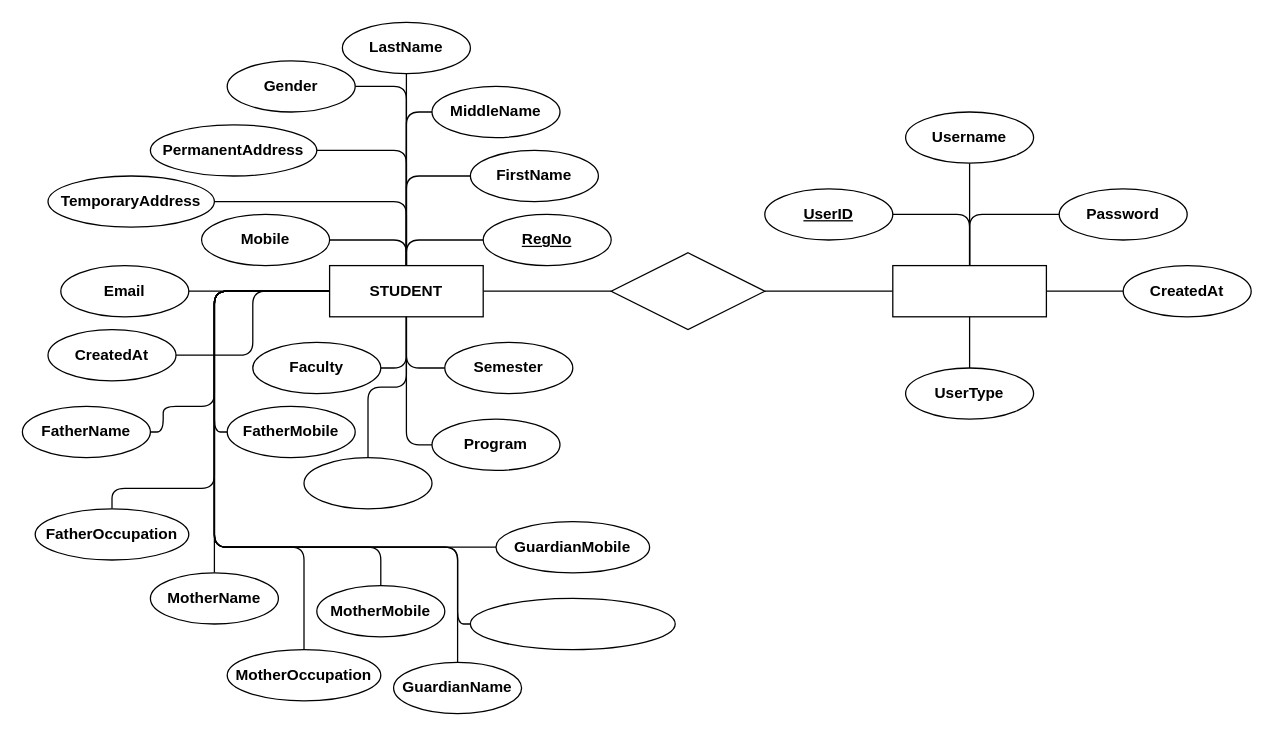
This 1274x736 diagram has some shape labels left out. The centre of each missing label's shape, as x and y in pixels:
"GuardianOccupation" belongs at pixel 572 623.
"Level" belongs at pixel 367 482.
"USERS" belongs at pixel 969 290.
"ViEWS" belongs at pixel 687 291.
